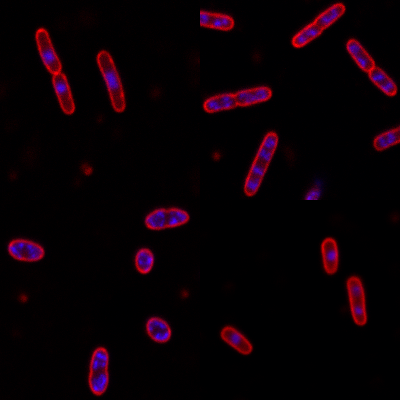CAM: (345, 274, 368, 326), (219, 323, 252, 355), (319, 238, 340, 276)
Control: (345, 38, 400, 97), (289, 2, 347, 50), (242, 131, 279, 199), (202, 85, 272, 113)
MP265: (143, 205, 191, 231), (87, 345, 111, 396), (6, 238, 45, 262), (144, 315, 172, 344), (134, 247, 155, 275)
Nalidixate: (34, 28, 77, 116), (94, 50, 127, 113)
Vesicle: (78, 162, 93, 176), (177, 287, 190, 301), (210, 148, 222, 161), (17, 292, 29, 303)
